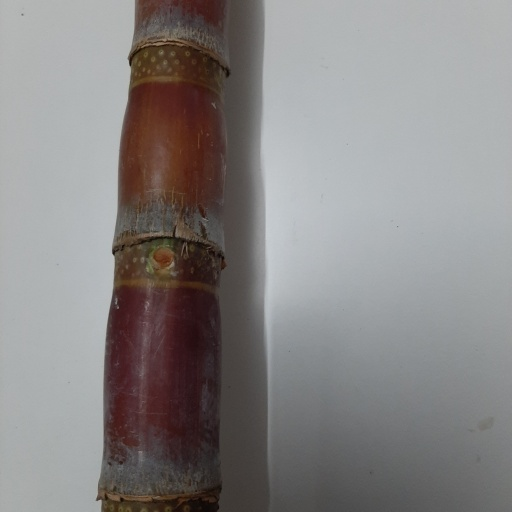Damage_Bud: (149, 244, 177, 271)
